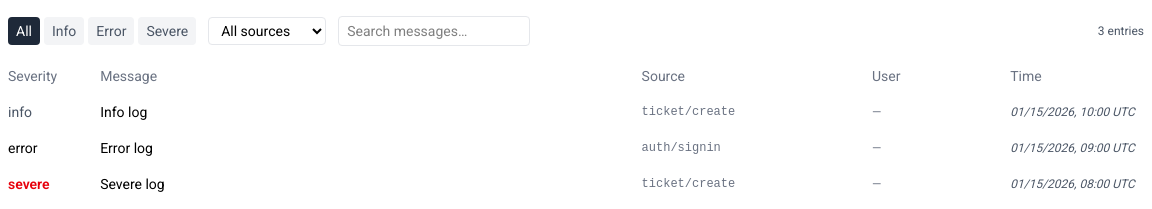
Test: LogViewer › restores all entries when All is clicked
Click the button "error" at (111, 31), box [88, 17, 134, 45]
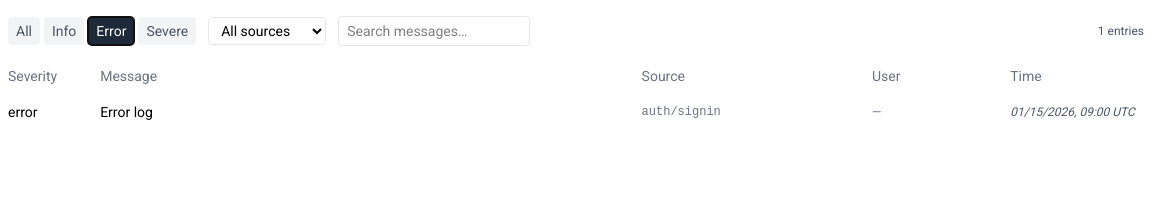
Click the button "all" at (24, 31), box [8, 17, 40, 45]
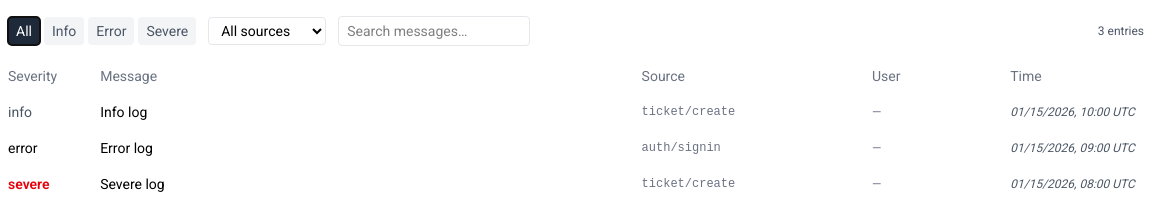
Check: the text "Error log" is shown, box [100, 140, 153, 156]
Check: the text "Info log" is shown, box [100, 104, 147, 120]
Check: the text "Severe log" is shown, box [100, 176, 165, 192]
